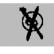not correct: (16, 5, 49, 45)
